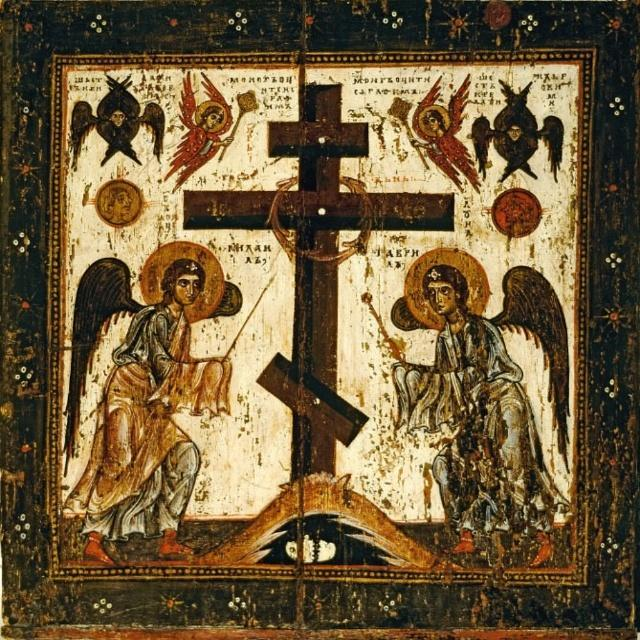angel: (377, 238, 579, 566), (59, 233, 239, 567), (411, 69, 478, 186), (169, 69, 236, 184)
cross: (186, 67, 461, 494)
scepter: (388, 93, 429, 178), (221, 87, 260, 168)
spear: (225, 267, 281, 364)
wing: (501, 259, 581, 464), (62, 257, 134, 466), (67, 97, 97, 176), (141, 98, 168, 161), (451, 72, 472, 131), (178, 74, 195, 127), (416, 76, 445, 106), (202, 72, 228, 101)
